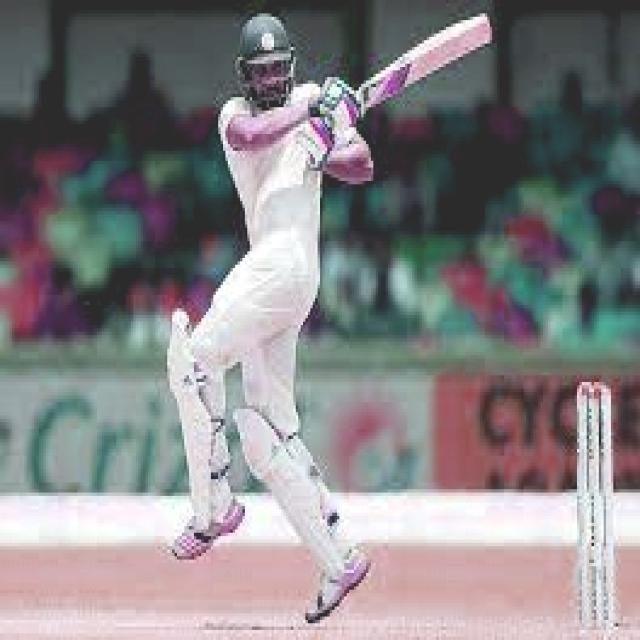toe: (476, 5, 496, 54)
